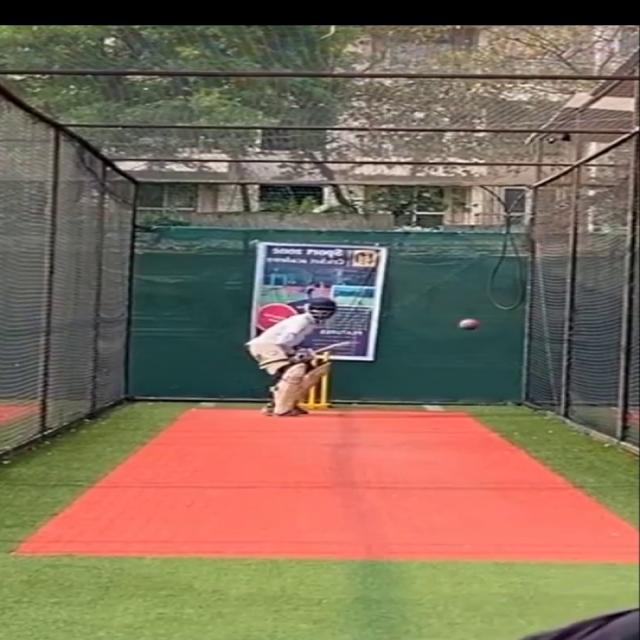ball: (457, 317, 485, 331)
stump: (307, 349, 338, 411)
